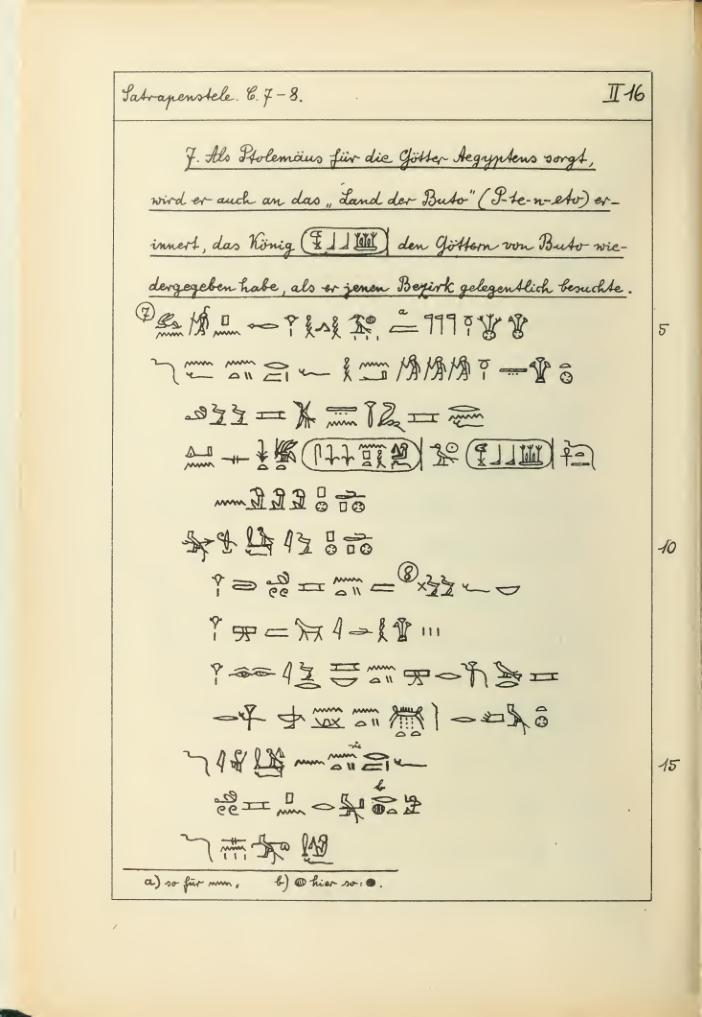circle: (281, 426, 434, 500), (450, 418, 571, 492), (295, 211, 414, 277)
